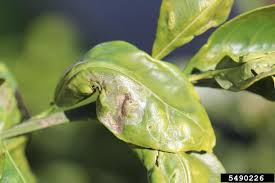Diseased_Leaves: (105, 80, 150, 135), (219, 49, 265, 80), (165, 127, 187, 149), (13, 90, 26, 115)
